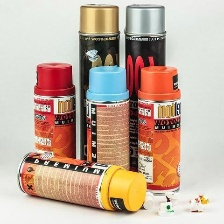aerosol_cans: (13, 147, 149, 215), (74, 0, 122, 184), (122, 1, 169, 178), (132, 63, 184, 198), (82, 62, 132, 189), (32, 58, 78, 179)
